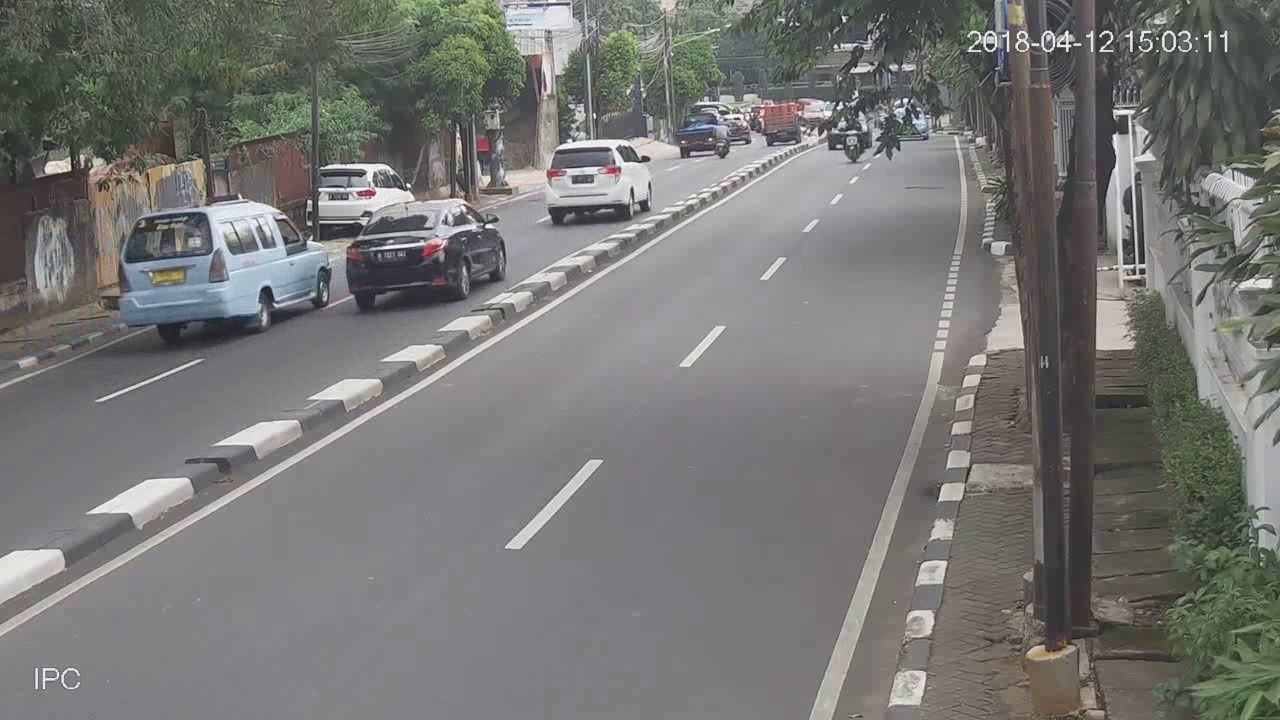car: (114, 192, 332, 338), (342, 199, 511, 308), (545, 138, 655, 219), (305, 158, 416, 201)
